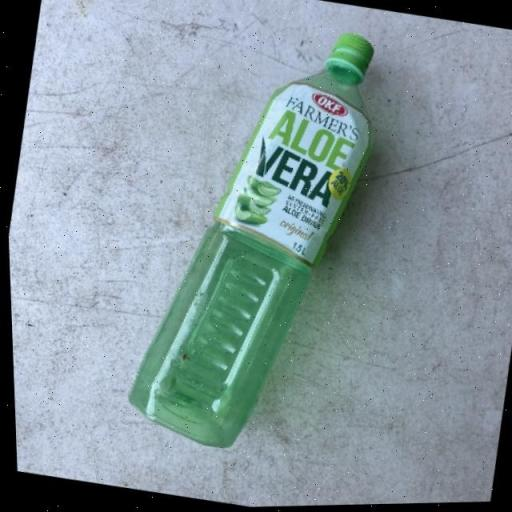plastic: (106, 2, 399, 469)
